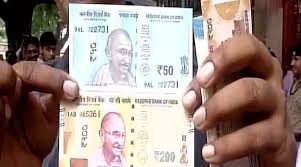twoHundred: (72, 103, 182, 162)
